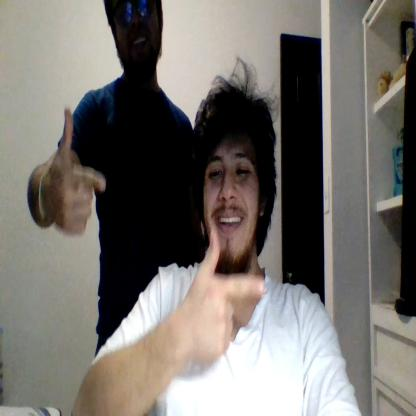G: (187, 226, 264, 366), (47, 106, 106, 235)
